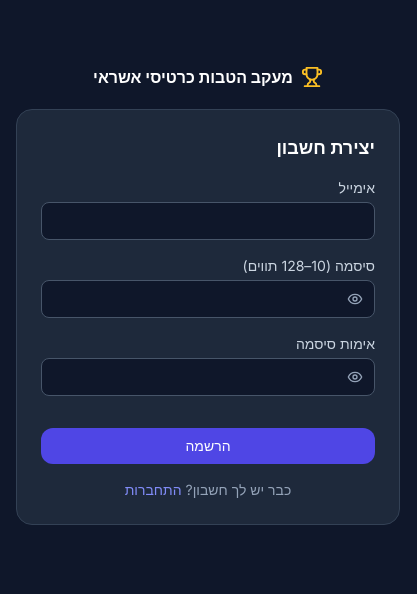
Test case: Register with an invite › maps the uniform invalid-invite 400 to a friendly message and lets the user change invite
Check: the heading "יצירת חשבון" is shown, box [276,137,375,158]
Type "new@example.com" into the field labelled "אימייל" at (208, 221), box [41,202,375,240]
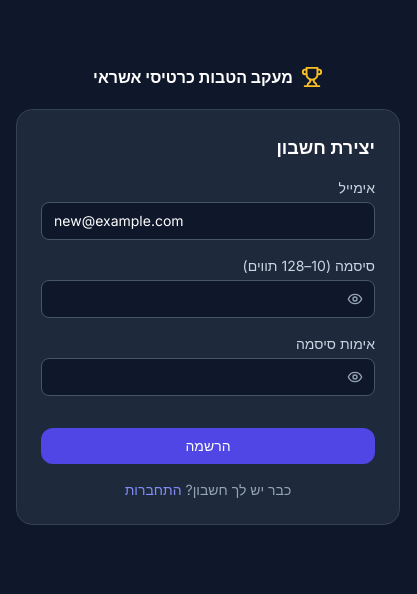
Type "a-long-enough-password" into the password field labelled "סיסמה (10–128 תווים)" at (208, 299), box [41,280,375,318]
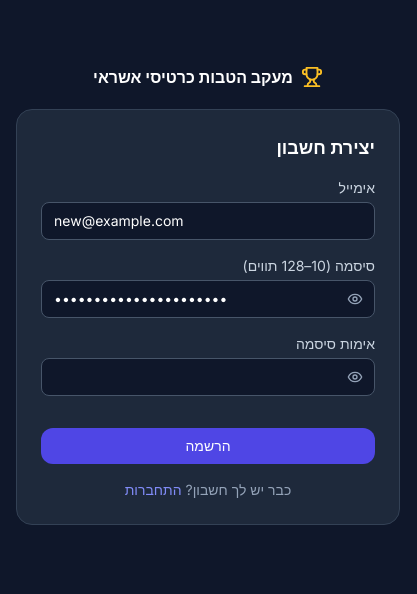
Type "a-long-enough-password" into the password field labelled "אימות סיסמה" at (208, 377), box [41,358,375,396]
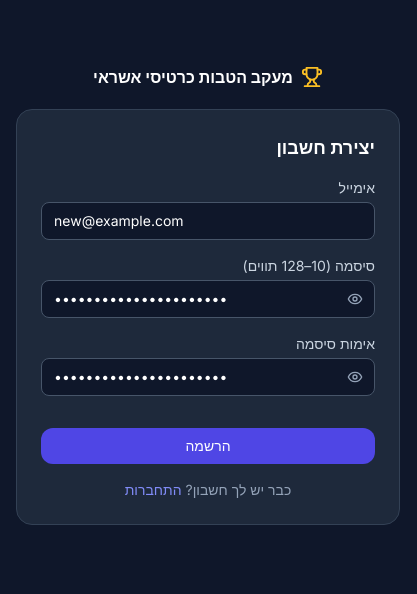
Click the button "הרשמה" at (208, 446), box [41,428,375,464]
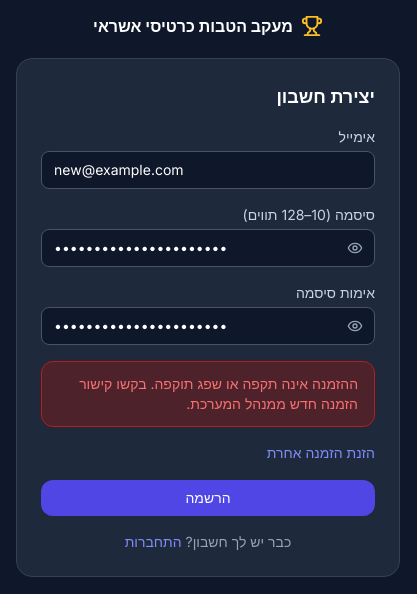
Check: the text "ההזמנה אינה תקפה או שפג תוקפה" is shown, box [79,374,358,412]
Click the button "הזנת הזמנה אחרת" at (321, 452), box [267,442,375,462]
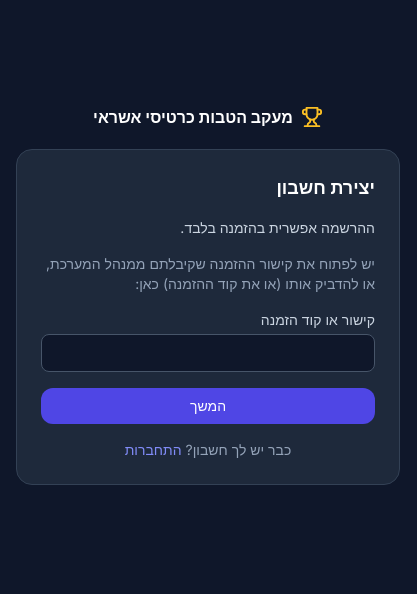
Check: the text "ההרשמה אפשרית בהזמנה בלבד." is shown, box [180,219,375,236]
